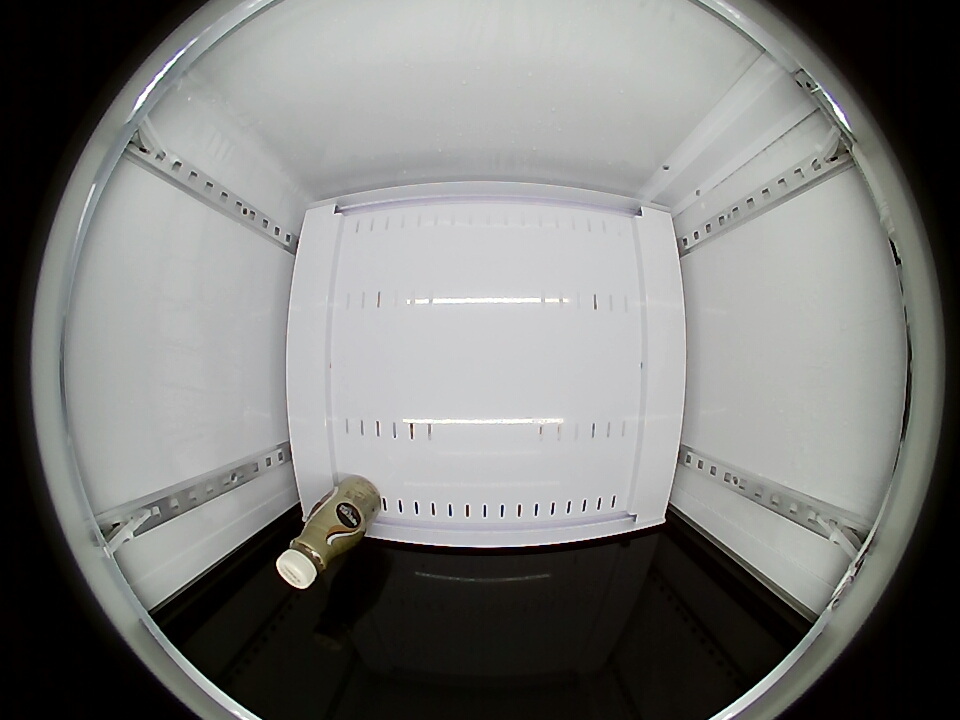kafei: (276, 505, 358, 590)
